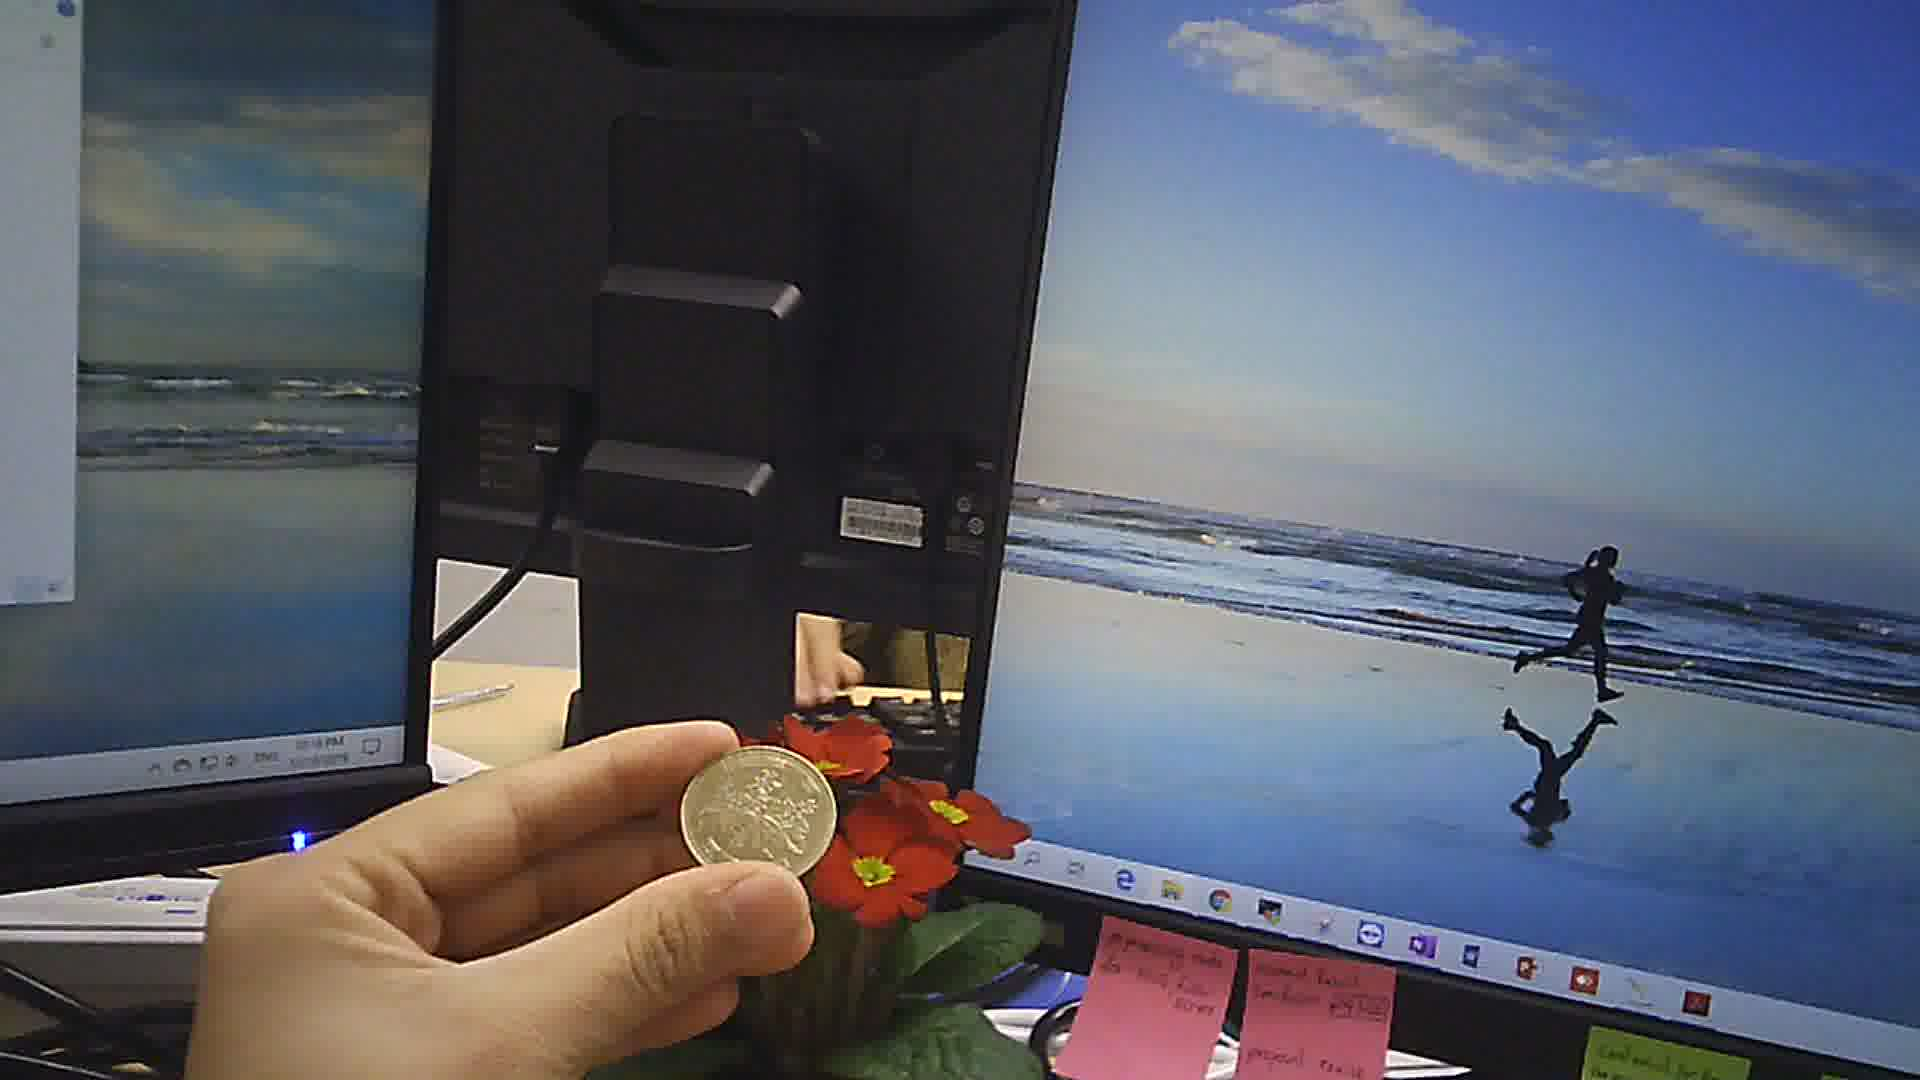500 Yen: (684, 738, 837, 887)
